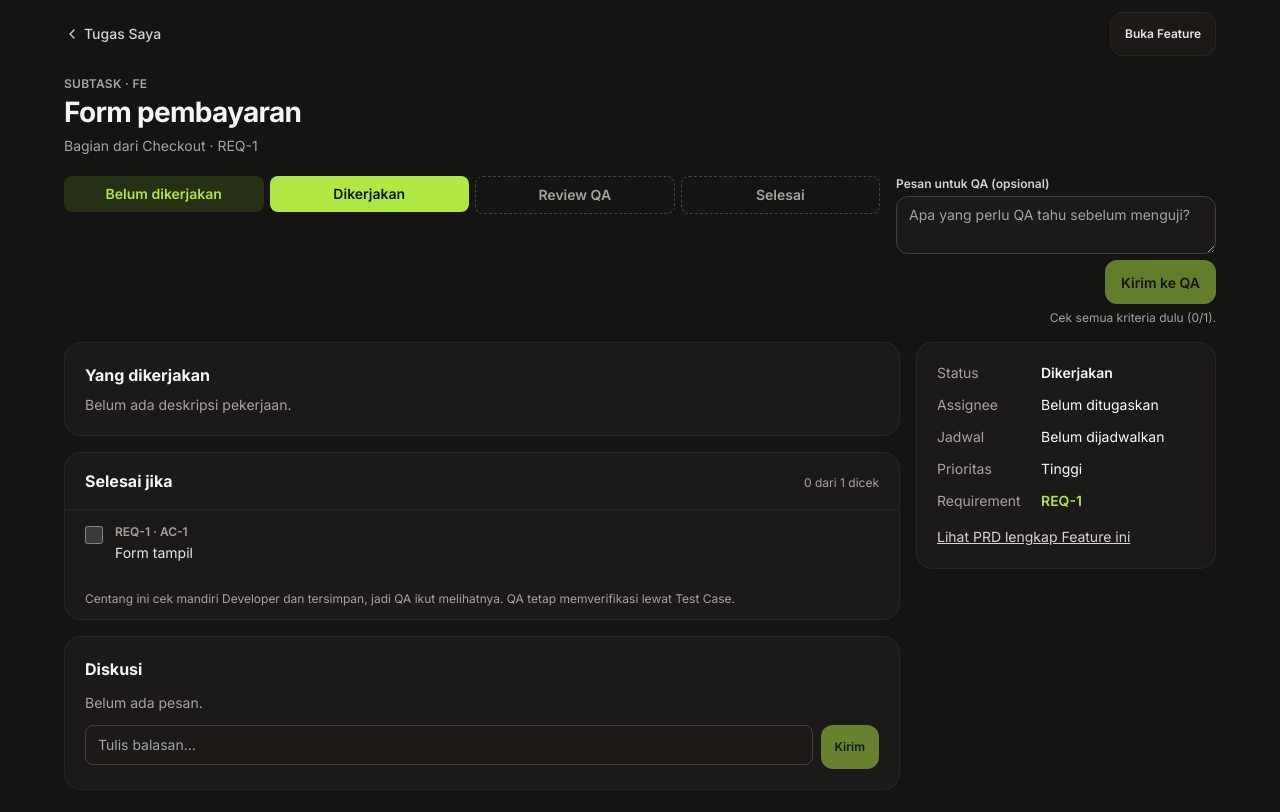
Test: SubtaskWorkPage › saves a criterion check on the server and shows who checked it (AC-2.11)
Click the checkbox at (94, 535), box [85,526,103,544]
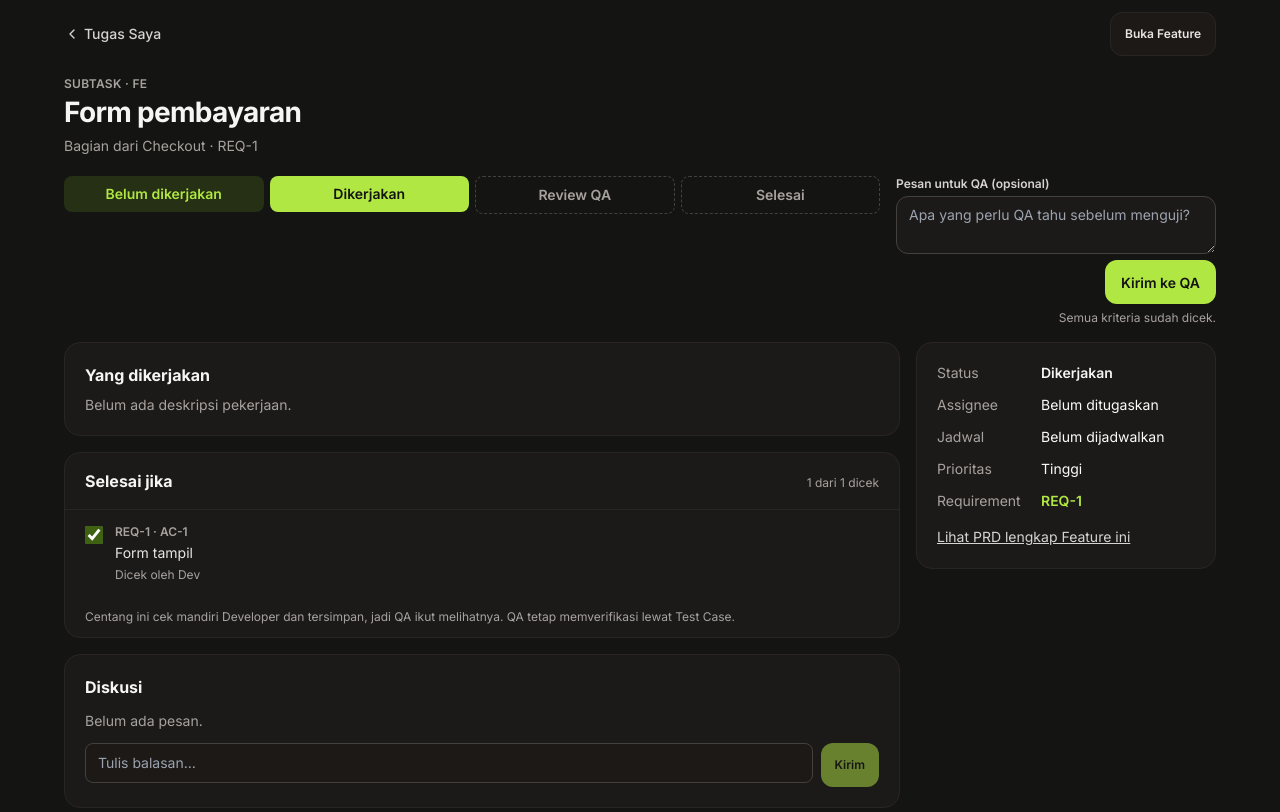
Check: the text "Dicek oleh Dev" is shown, box [115,567,200,583]
